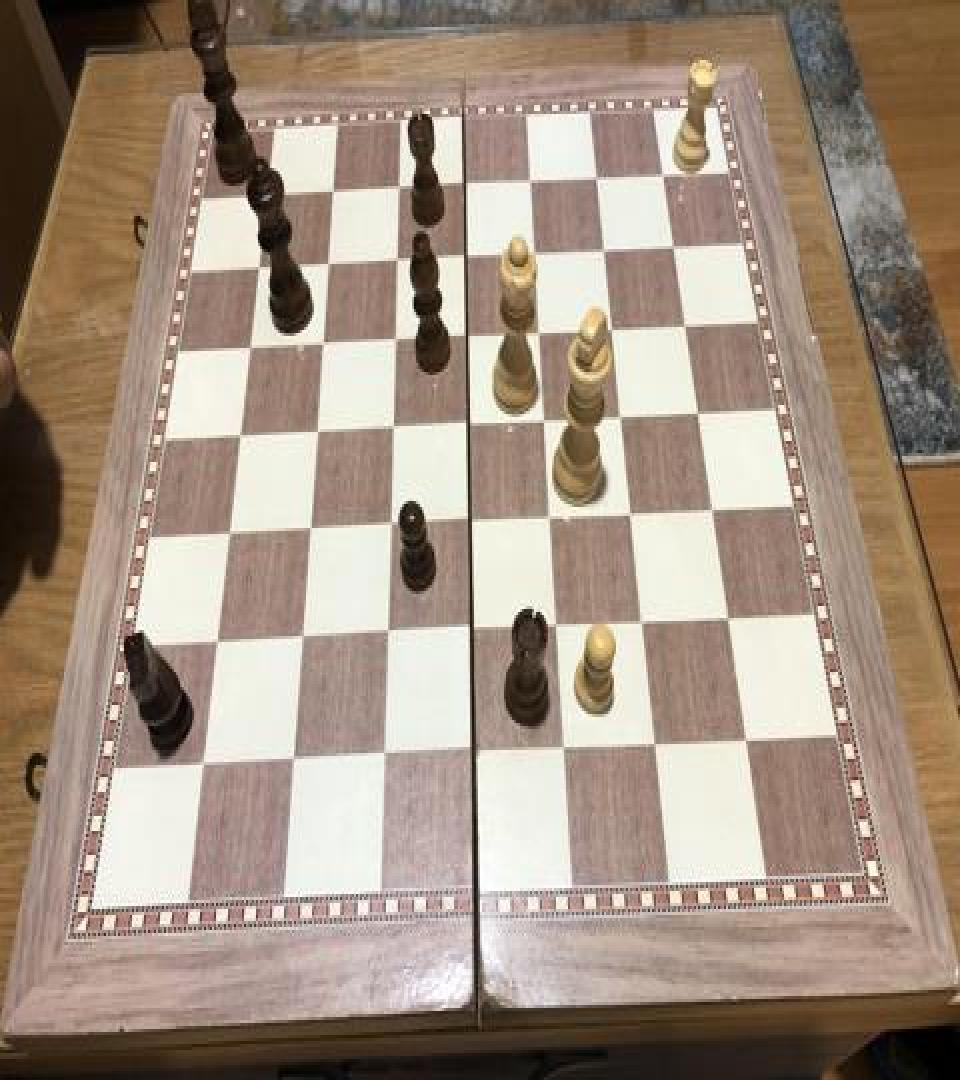xcorner: (216, 514, 240, 551), (203, 622, 227, 659), (460, 733, 484, 770), (650, 159, 674, 195), (584, 162, 608, 198), (518, 165, 542, 201), (452, 168, 476, 204), (386, 171, 410, 207), (320, 176, 344, 212), (254, 178, 278, 214), (660, 230, 684, 266), (591, 232, 615, 268), (522, 237, 546, 273), (453, 240, 477, 276), (384, 243, 408, 279), (315, 248, 339, 284), (246, 250, 270, 286), (672, 309, 696, 345), (599, 312, 623, 348), (526, 315, 550, 351), (454, 320, 478, 356), (381, 322, 405, 358), (309, 326, 333, 362), (237, 330, 261, 366), (685, 396, 709, 432), (608, 399, 632, 435), (531, 402, 555, 438), (455, 406, 479, 442), (379, 410, 403, 446), (303, 414, 327, 450), (227, 417, 251, 453), (699, 492, 723, 528), (618, 495, 642, 531), (537, 500, 561, 536), (457, 502, 481, 538), (376, 507, 400, 543), (296, 510, 320, 546), (715, 600, 739, 636), (629, 603, 653, 639), (543, 608, 567, 644), (458, 612, 482, 648), (373, 615, 397, 651), (288, 620, 312, 656), (733, 722, 757, 758), (641, 726, 665, 762), (551, 729, 575, 765), (369, 736, 393, 772), (279, 741, 303, 777), (189, 746, 213, 782)
